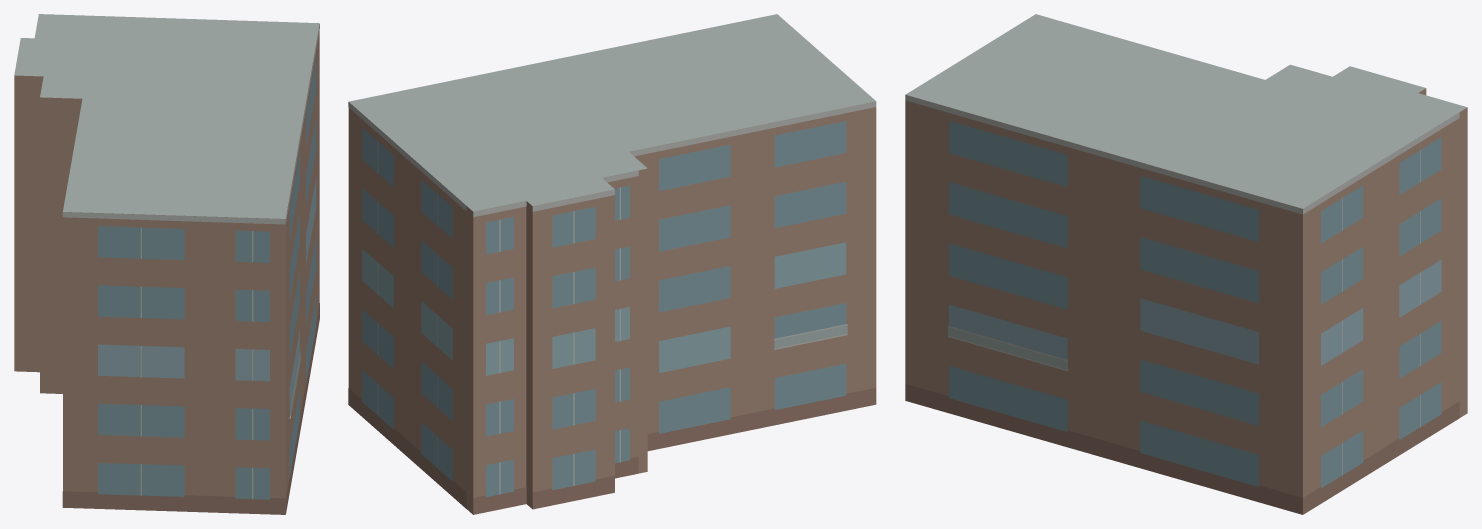
The model's file is survey-upis-32618661.glb.
3 renders of one model, left to right at view 1: azimuth 30°, elevation 25°; view 2: azimuth 150°, elevation 25°; view 3: azimuth 270°, elevation 25°, orthographic. The views are drawn at different scales.
Visible parts, largest first — view 1: survey-upis-32618661.tmp; view 2: survey-upis-32618661.tmp; view 3: survey-upis-32618661.tmp.
Boxes of the visible parts, x1,y1,x2,y2 form: survey-upis-32618661.tmp: (14,14,319,514); survey-upis-32618661.tmp: (348,14,876,514); survey-upis-32618661.tmp: (905,14,1467,514).
Bounding box in the file's own units: 17.89 × 13.1 × 21.82.
